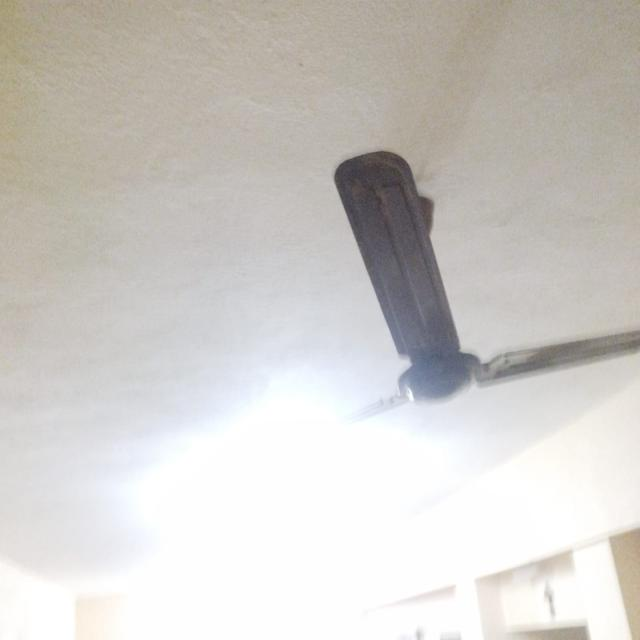fan_off: (334, 145, 640, 416)
